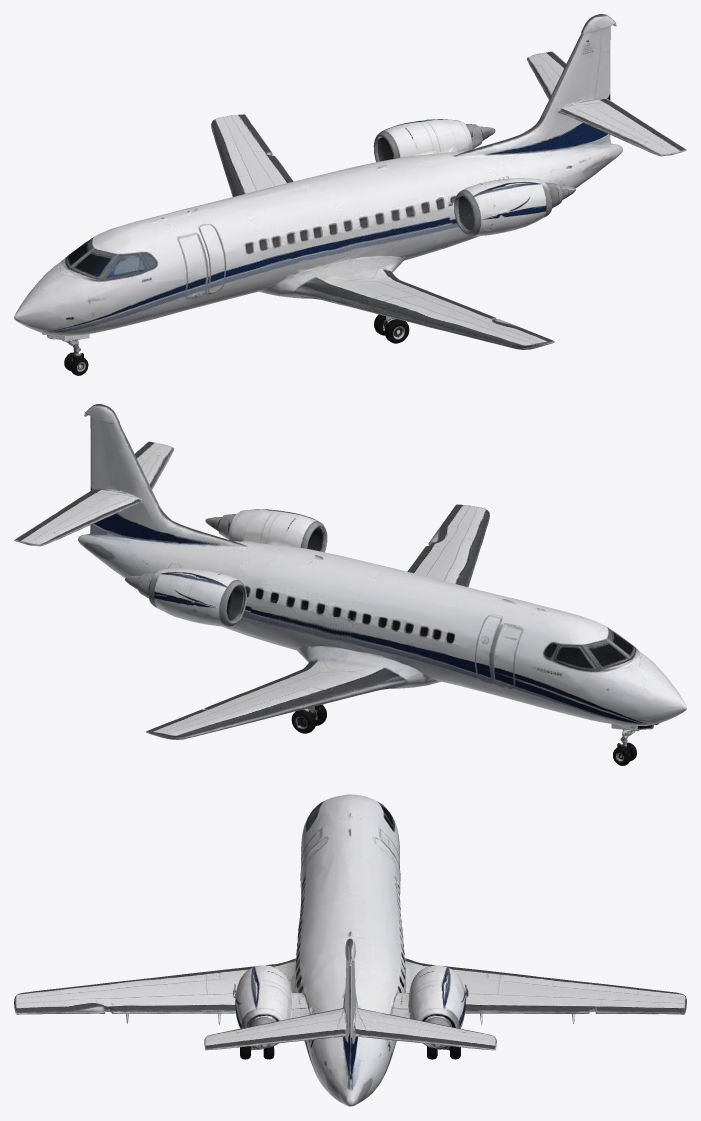
File: airliner.glb
3 renders of one model, top to bottom at view 1: azimuth 30°, elevation 25°; view 2: azimuth 150°, elevation 25°; view 3: azimuth 270°, elevation 25°, orthographic. The views are drawn at different scales.
Size of the model in its own units: 1.9 by 0.6896 by 1.69.
1 material, 1 textured.
